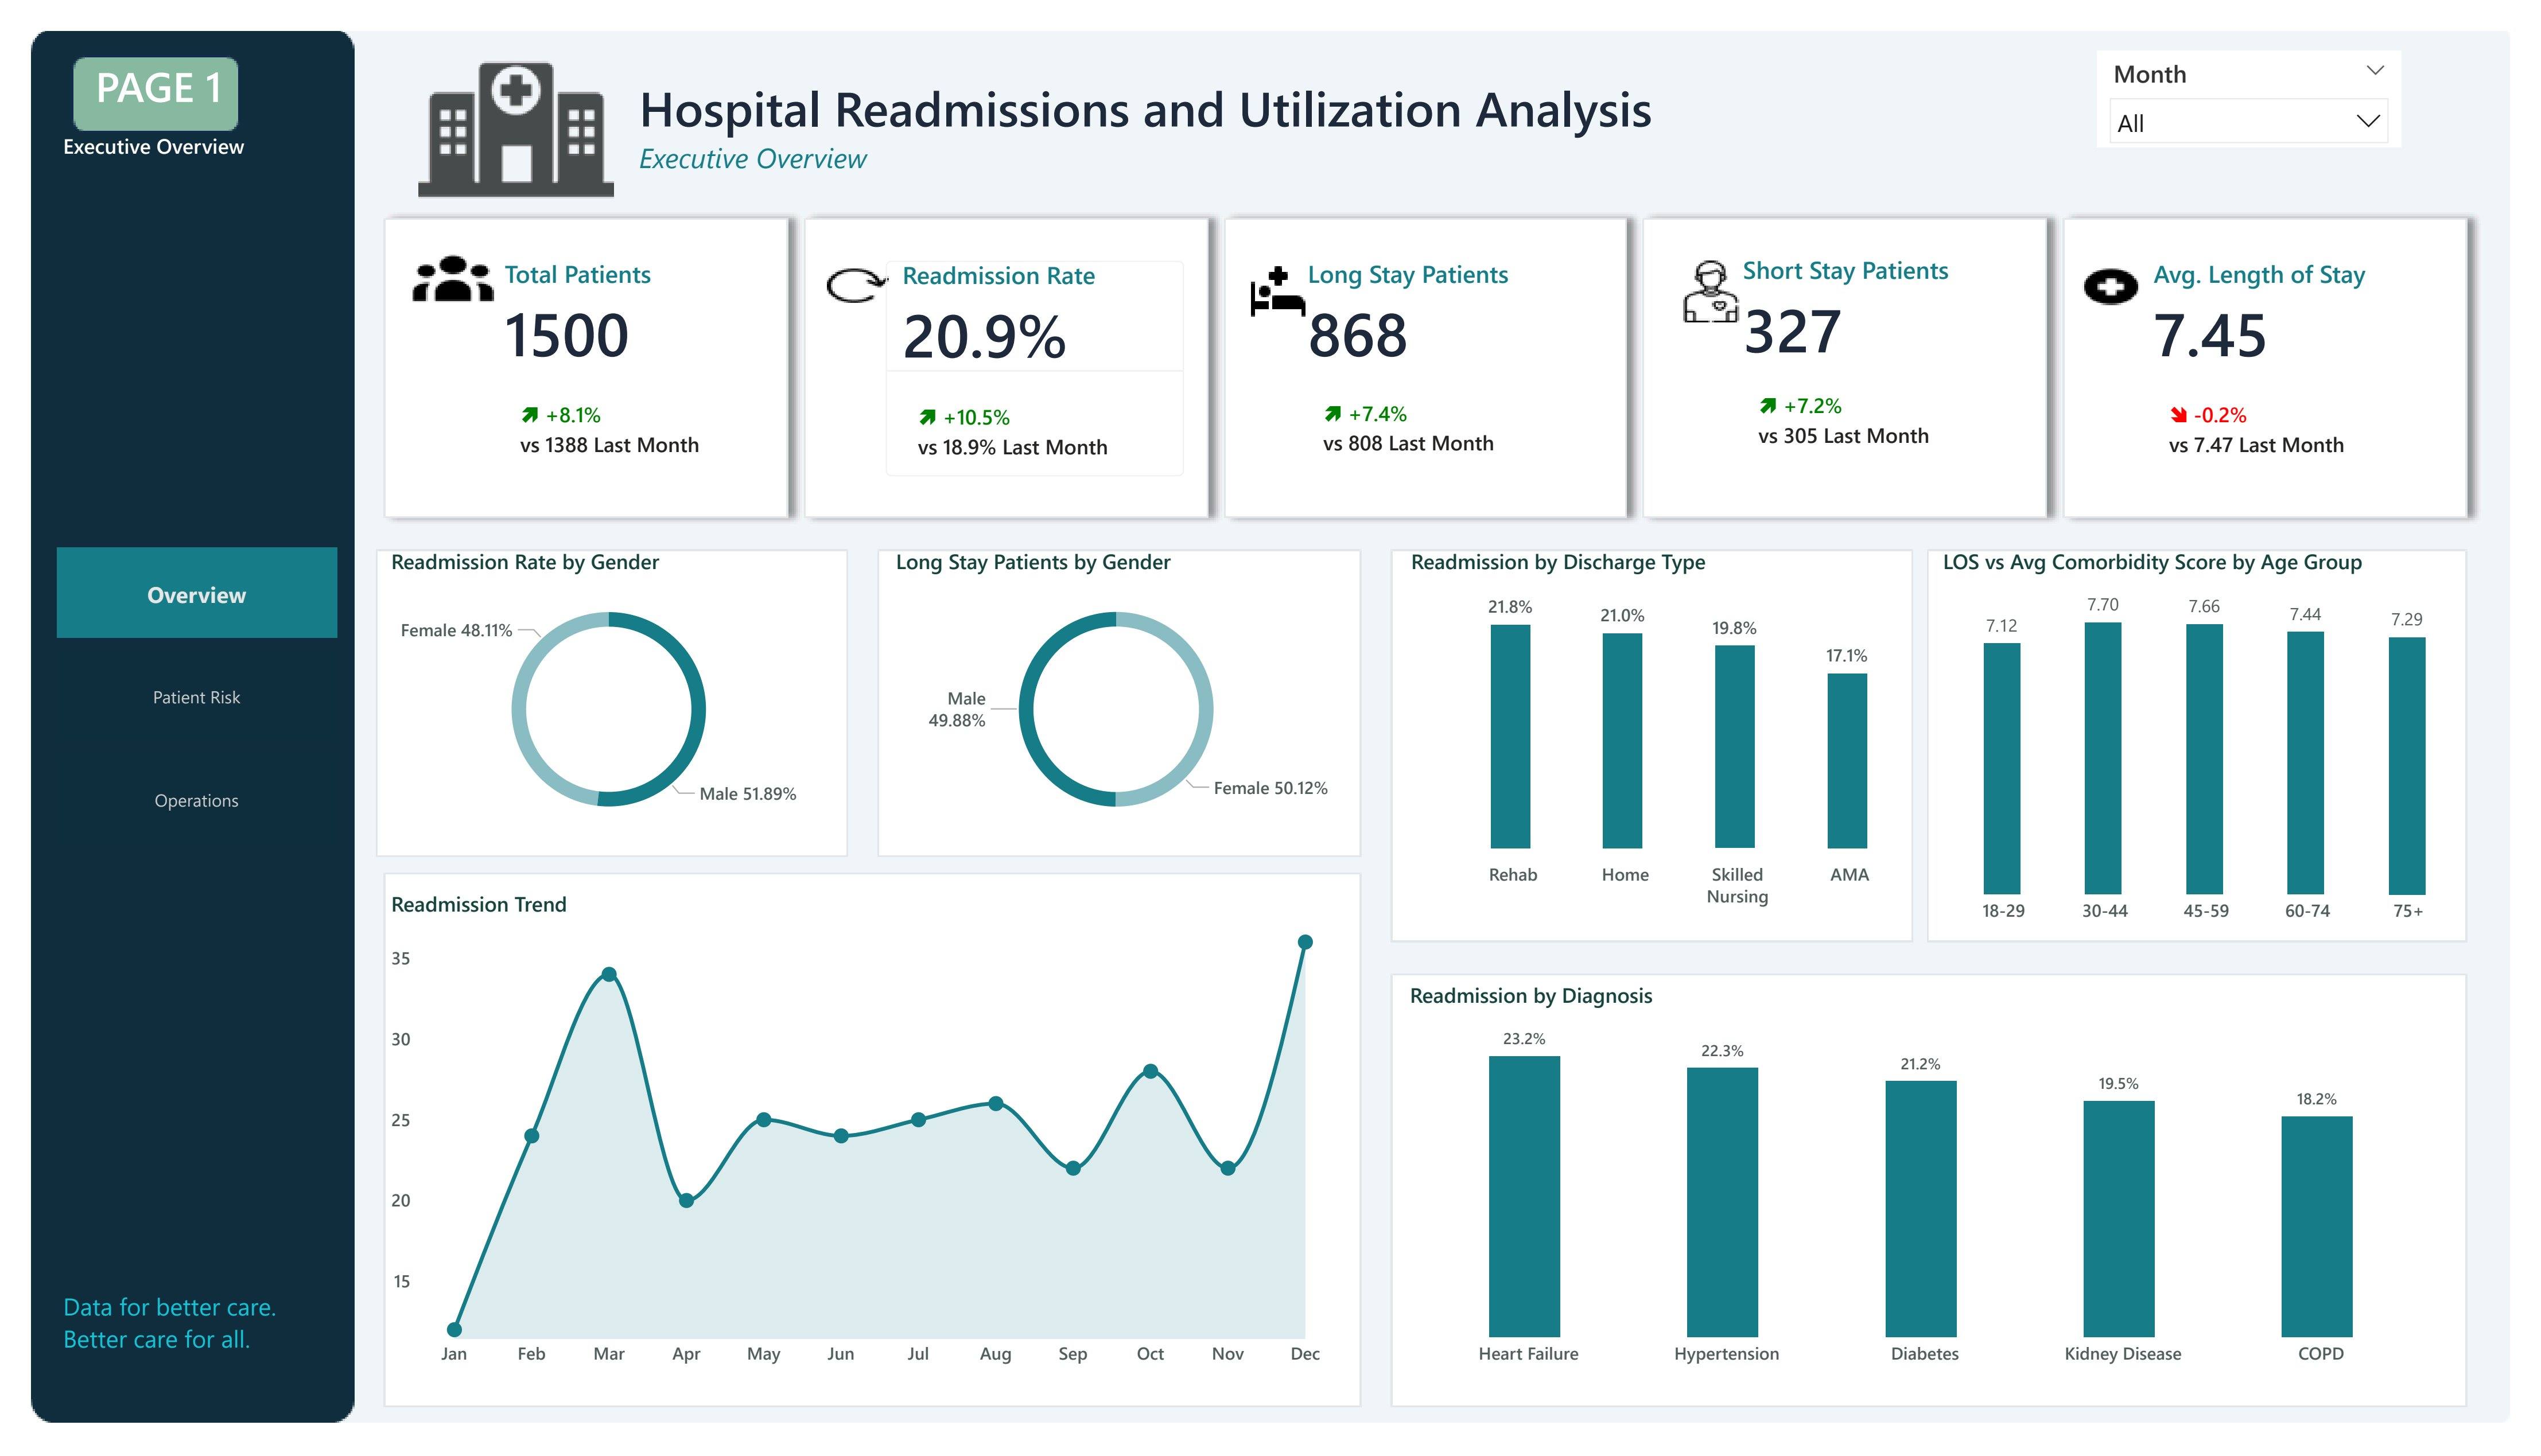

Layout of this report page (visuals, bound fields, positions):
{"tool":"powerbi","page":{"name":" Overview","canvas":[1920,1080],"ordinal":0},"visuals":[{"type":"donutChart","title":"Readmission Rate by Gender","fields":{"Y":["_measures.Readmission_rate(%)"],"Category":["readmissions.sex"]},"box":[274,400.1,347.1,230.2],"z":0},{"type":"lineClusteredColumnComboChart","title":"LOS vs Avg Comorbidity Score by Age Group","fields":{"Category":["readmissions.Age_group"],"Y":["Avg(readmissions.length_of_stay)"]},"box":[1476.1,400.1,418.3,299.6],"z":1000},{"type":"clusteredColumnChart","title":"Readmission by Diagnosis","fields":{"Category":["readmissions.diagnosis"],"Y":["_measures.Readmission_rate"]},"box":[1063.2,736.2,807.5,306.9],"z":2000},{"type":"clusteredColumnChart","title":"Readmission by Discharge Type","fields":{"Category":["readmissions.discharge_type"],"Y":["_measures.Readmission_rate"]},"box":[1064,400,402,286],"z":3000},{"type":"textbox","box":[465.8,29.2,855,87.7],"z":4000},{"type":"slicer","fields":{"Values":["Date.Month Name"]},"box":[1600.3,14.6,235.7,74.9],"z":5000},{"type":"donutChart","title":"Long Stay Patients by Gender","fields":{"Category":["readmissions.sex"],"Y":["_measures.Long_stay_patients"]},"box":[665,400.1,350.8,230.2],"z":6000},{"type":"pageNavigator","box":[20.1,400.1,217.4,230.2],"z":7000},{"type":"lineChart","title":"Readmission Trend","fields":{"Y":["_measures.readmission"],"Category":["Date.Month Name"]},"box":[274,665,741.7,378.2],"z":8000},{"type":"cardVisual","fields":{"Data":["_measures.Total Patients"]},"box":[338,160.8,244.8,201],"z":9000},{"type":"cardVisual","fields":{"Data":["_measures.Readmission_rate"]},"box":[644.9,160.8,264.9,201],"z":10000},{"type":"cardVisual","fields":{"Data":["_measures.Long_stay_patients"]},"box":[960,160,260,202],"z":11000},{"type":"cardVisual","fields":{"Data":["_measures.Short_stay_patients"]},"box":[1297.1,160.8,255.8,188.2],"z":12000},{"type":"cardVisual","fields":{"Data":["_measures.Avg_los"]},"box":[1615.4,161.1,238.3,200.8],"z":13000},{"type":"textbox","box":[36.5,14.6,124.2,60.3],"z":14000},{"type":"textbox","box":[20.1,73.1,217.4,60.3],"z":15000},{"type":"textbox","box":[20.1,970,217.4,73.1],"z":16000}]}

Visuals, with their boxes on the page's 1920x1080 design canvas (x1, y1, x2, y2). These are canvas units, not pixel positions in the 2541x1456 screenshot, which may show the page scaled, cropped or inside an application window:
"Readmission Rate by Gender" donutChart: region(274, 400, 621, 630)
"LOS vs Avg Comorbidity Score by Age Group" lineClusteredColumnComboChart: region(1476, 400, 1894, 700)
"Readmission by Diagnosis" clusteredColumnChart: region(1063, 736, 1871, 1043)
"Readmission by Discharge Type" clusteredColumnChart: region(1064, 400, 1466, 686)
textbox: region(466, 29, 1321, 117)
slicer - Date.Month Name: region(1600, 15, 1836, 90)
"Long Stay Patients by Gender" donutChart: region(665, 400, 1016, 630)
pageNavigator: region(20, 400, 238, 630)
"Readmission Trend" lineChart: region(274, 665, 1016, 1043)
cardVisual - _measures.Total Patients: region(338, 161, 583, 362)
cardVisual - _measures.Readmission_rate: region(645, 161, 910, 362)
cardVisual - _measures.Long_stay_patients: region(960, 160, 1220, 362)
cardVisual - _measures.Short_stay_patients: region(1297, 161, 1553, 349)
cardVisual - _measures.Avg_los: region(1615, 161, 1854, 362)
textbox: region(36, 15, 161, 75)
textbox: region(20, 73, 238, 133)
textbox: region(20, 970, 238, 1043)
